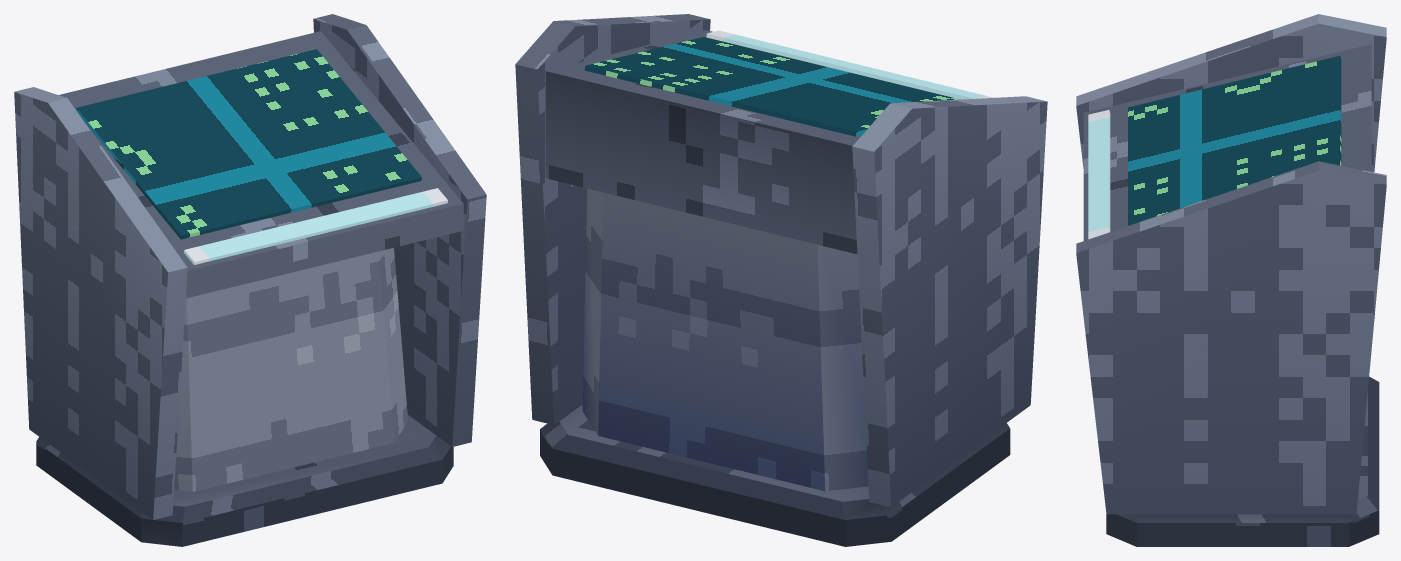
Rendered from tech.console__pillar.glb.
3 views of the same model, side by side, from view 1: azimuth 30°, elevation 25°; view 2: azimuth 150°, elevation 25°; view 3: azimuth 270°, elevation 25° (orthographic). The views are drawn at different scales.
Parts seen in each view (by area): view 1: kit_fins, kit_body, kit_screens, kit_desk, kit_plinth, kit_strip; view 2: kit_fins, kit_body, kit_desk, kit_plinth, kit_screens, kit_strip; view 3: kit_fins, kit_screens, kit_plinth, kit_desk, kit_strip.
Boxes of the visible parts, <box> form: kit_fins: <box>14,14,486,519</box>; kit_body: <box>174,248,407,491</box>; kit_screens: <box>76,49,421,239</box>; kit_desk: <box>59,31,463,298</box>; kit_plinth: <box>36,415,453,546</box>; kit_strip: <box>184,188,447,264</box>; kit_fins: <box>515,14,1047,507</box>; kit_body: <box>582,188,868,491</box>; kit_desk: <box>545,30,861,254</box>; kit_plinth: <box>540,404,1010,546</box>; kit_screens: <box>584,37,959,136</box>; kit_strip: <box>706,30,994,99</box>; kit_fins: <box>1076,14,1386,514</box>; kit_screens: <box>1128,56,1341,225</box>; kit_plinth: <box>1106,376,1379,546</box>; kit_desk: <box>1083,44,1371,240</box>; kit_strip: <box>1088,110,1110,239</box>.
Bounding box in the file's own units: 0.98 × 1.1 × 0.82.
6 materials, 6 textured.
